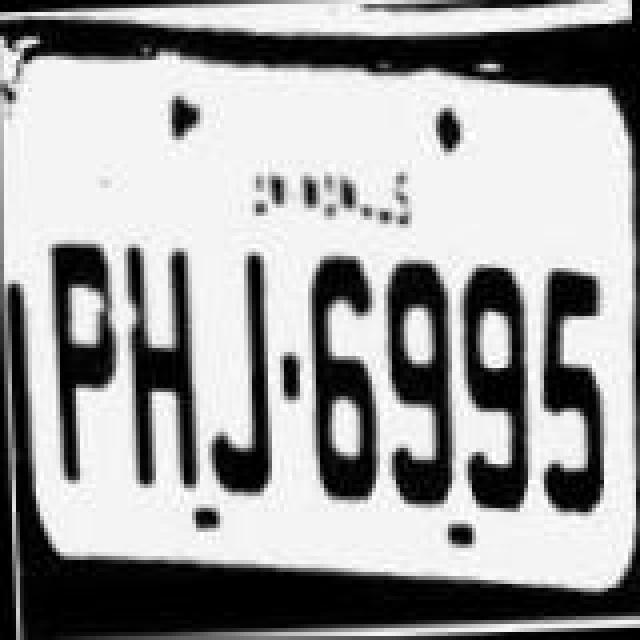5: (520, 256, 616, 520)
6: (304, 244, 384, 504)
9: (450, 248, 534, 520), (380, 244, 460, 512)
H: (110, 242, 202, 506)
J: (198, 236, 282, 500)
P: (44, 226, 132, 486)
